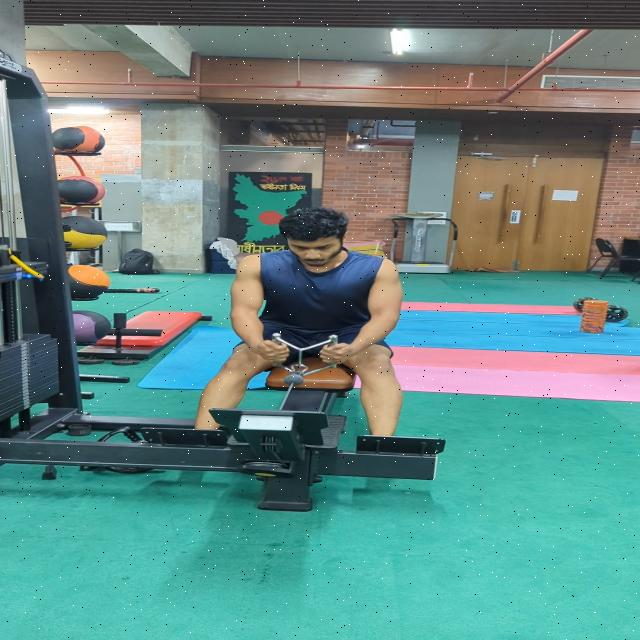Normal_RowingMachineExercise: (191, 208, 403, 437)
